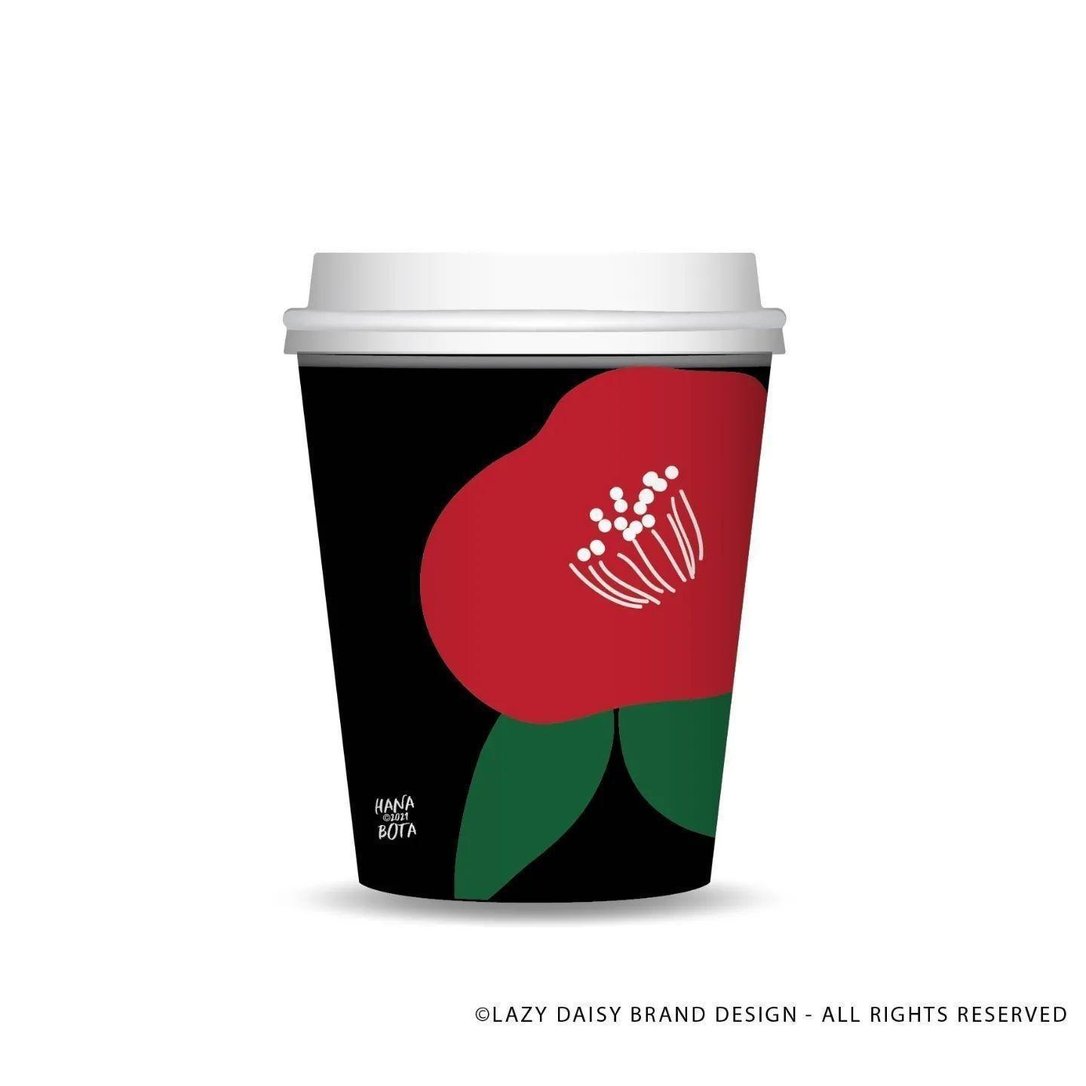cup-disposable: (268, 231, 792, 928)
